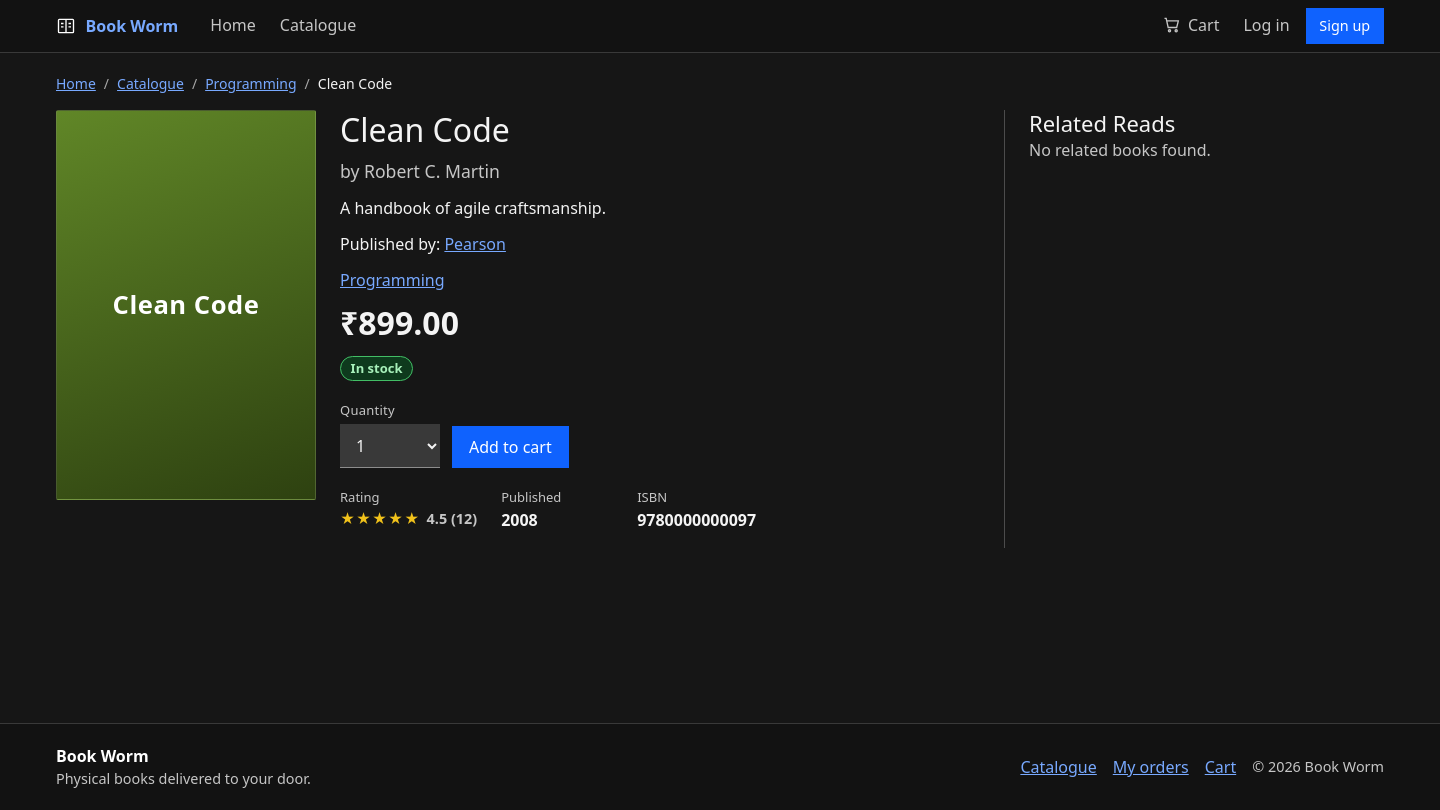
Test case: Journey: book details and related books › sends a signed-out visitor to login instead of adding to the cart
Click the button "Add to cart".
click(510, 447)  # box x1=452 y1=426 x2=569 y2=468
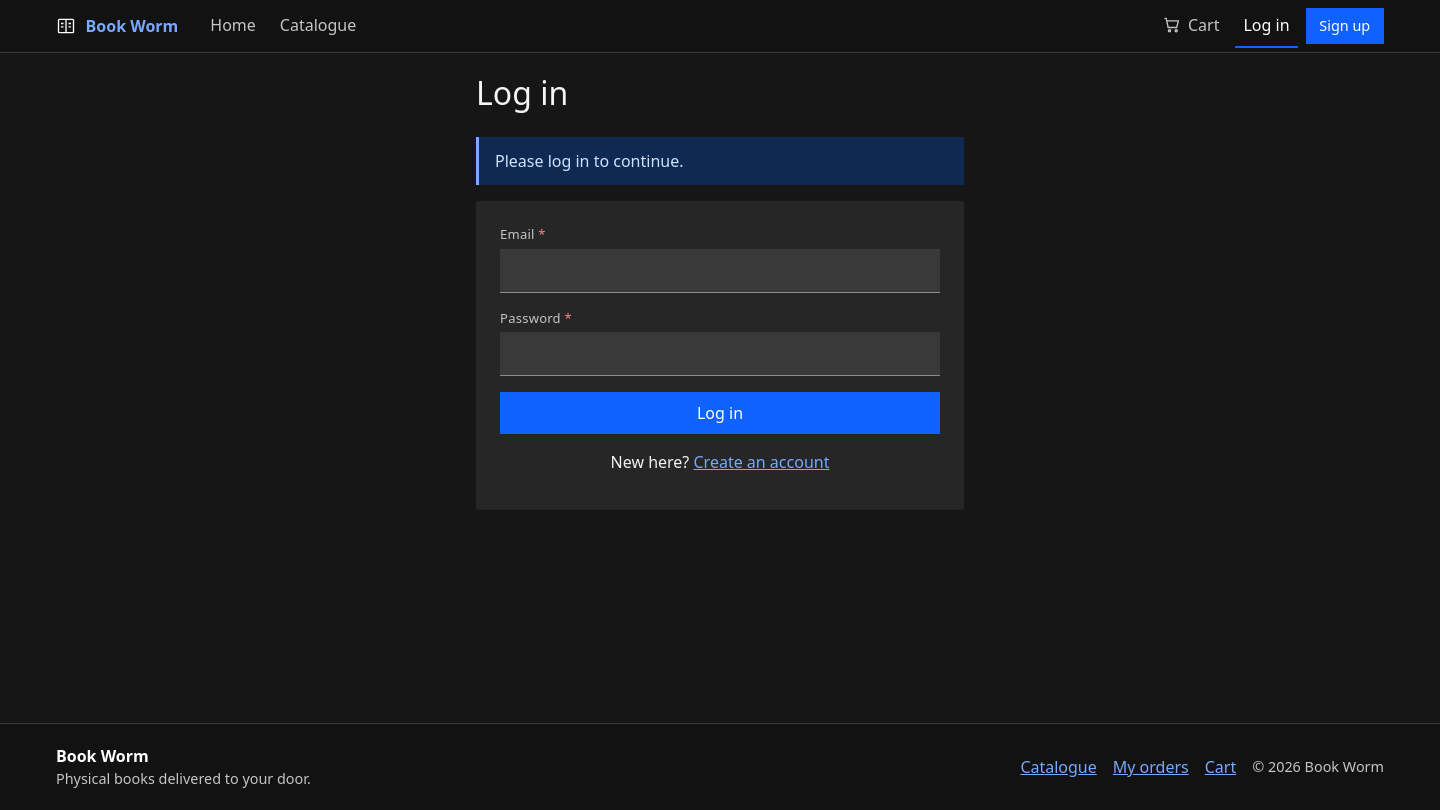
Check: the heading "Log in" is shown, box x1=476 y1=73 x2=568 y2=113
